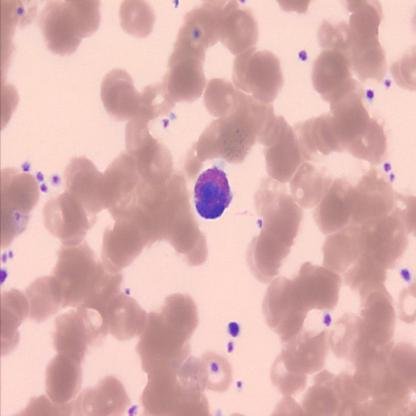Eosinophil: (189, 164, 236, 218)
